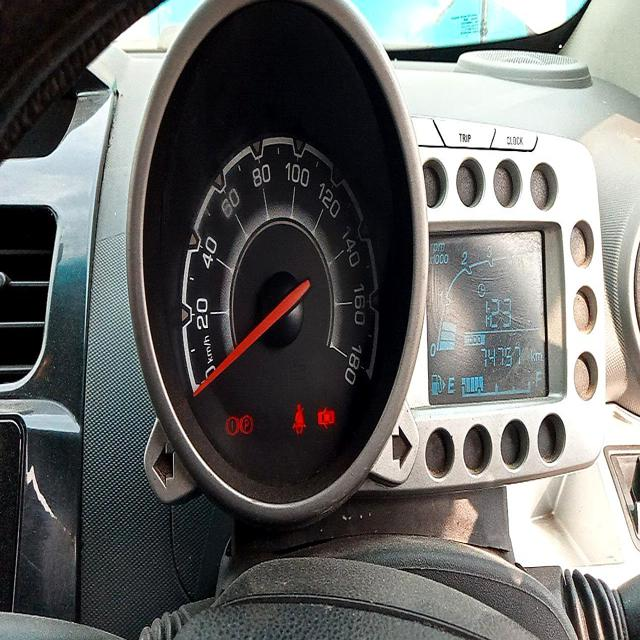odometer: (478, 340, 526, 374)
